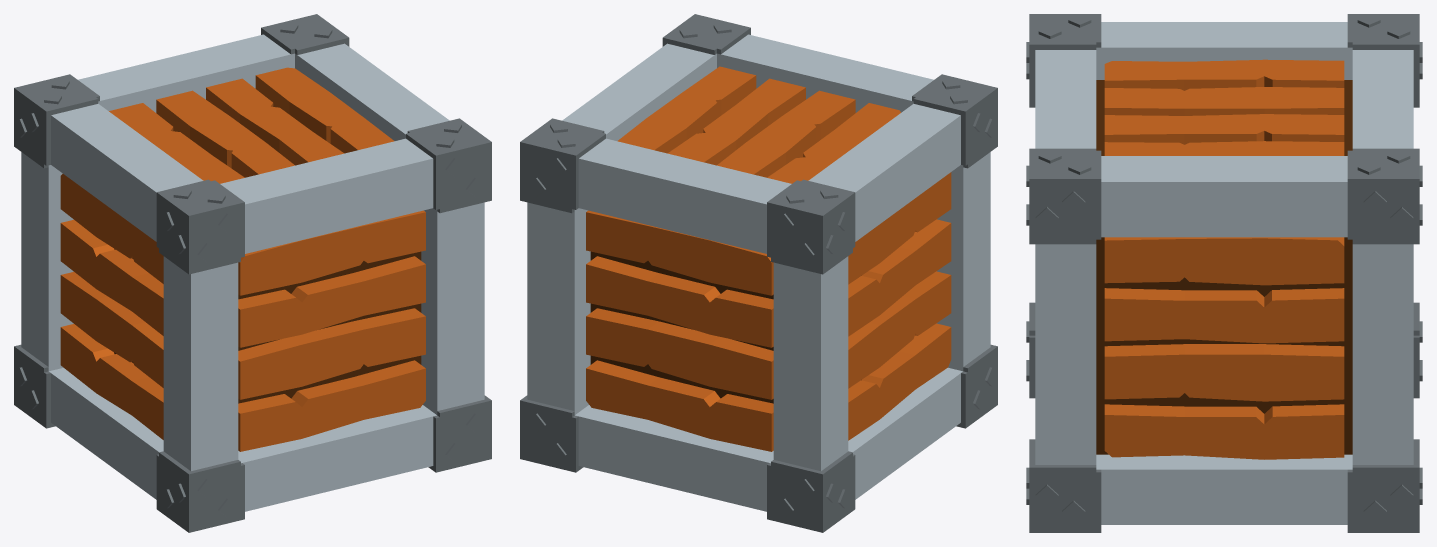
Rendered from Caja.fbx.
3 renders of one model, left to right at view 1: azimuth 30°, elevation 25°; view 2: azimuth 150°, elevation 25°; view 3: azimuth 270°, elevation 25°, orthographic. The views are drawn at different scales.
Parts seen in each view (by area): view 1: Cube; view 2: Cube; view 3: Cube.
Boxes of the visible parts, left/top/right/bottom form: Cube: left=14, top=14, right=491, bottom=532; Cube: left=520, top=14, right=997, bottom=532; Cube: left=1026, top=14, right=1422, bottom=532.
Size of the model in its own units: 210 by 210 by 209.
